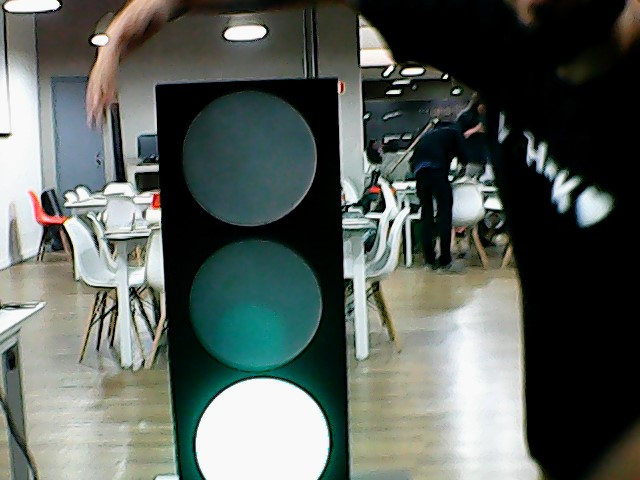verde: (117, 68, 385, 479)
